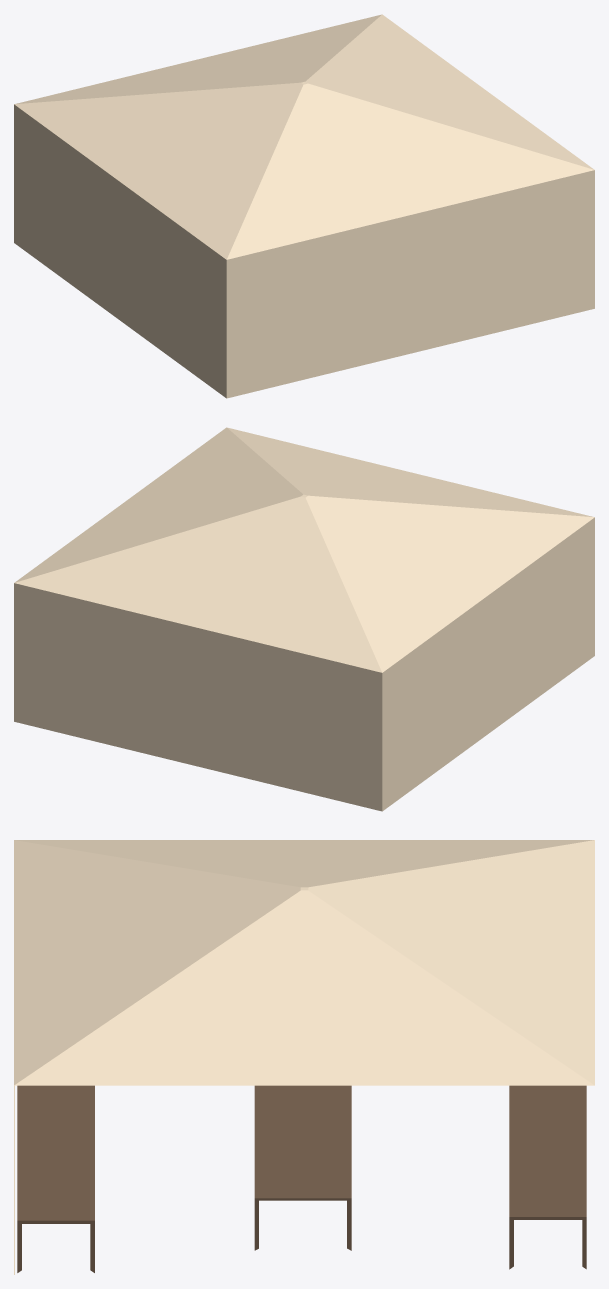
3 renders of one model, top to bottom at view 1: azimuth 30°, elevation 25°; view 2: azimuth 150°, elevation 25°; view 3: azimuth 270°, elevation 25°, orthographic. The views are drawn at different scales.
Parts seen in each view (by area): view 1: Cube; view 2: Cube; view 3: Cube, Cubo.008, Cubo.009, Cubo.001.
Part boxes in pixels (x1=…): Cube: x1=14, y1=14, x2=594, y2=398; Cube: x1=14, y1=427, x2=594, y2=811; Cube: x1=14, y1=840, x2=594, y2=1274; Cubo.008: x1=254, y1=1085, x2=351, y2=1250; Cubo.009: x1=17, y1=1085, x2=94, y2=1272; Cubo.001: x1=509, y1=1085, x2=586, y2=1269.
Size of the model in its own units: 30 by 15.92 by 30.
